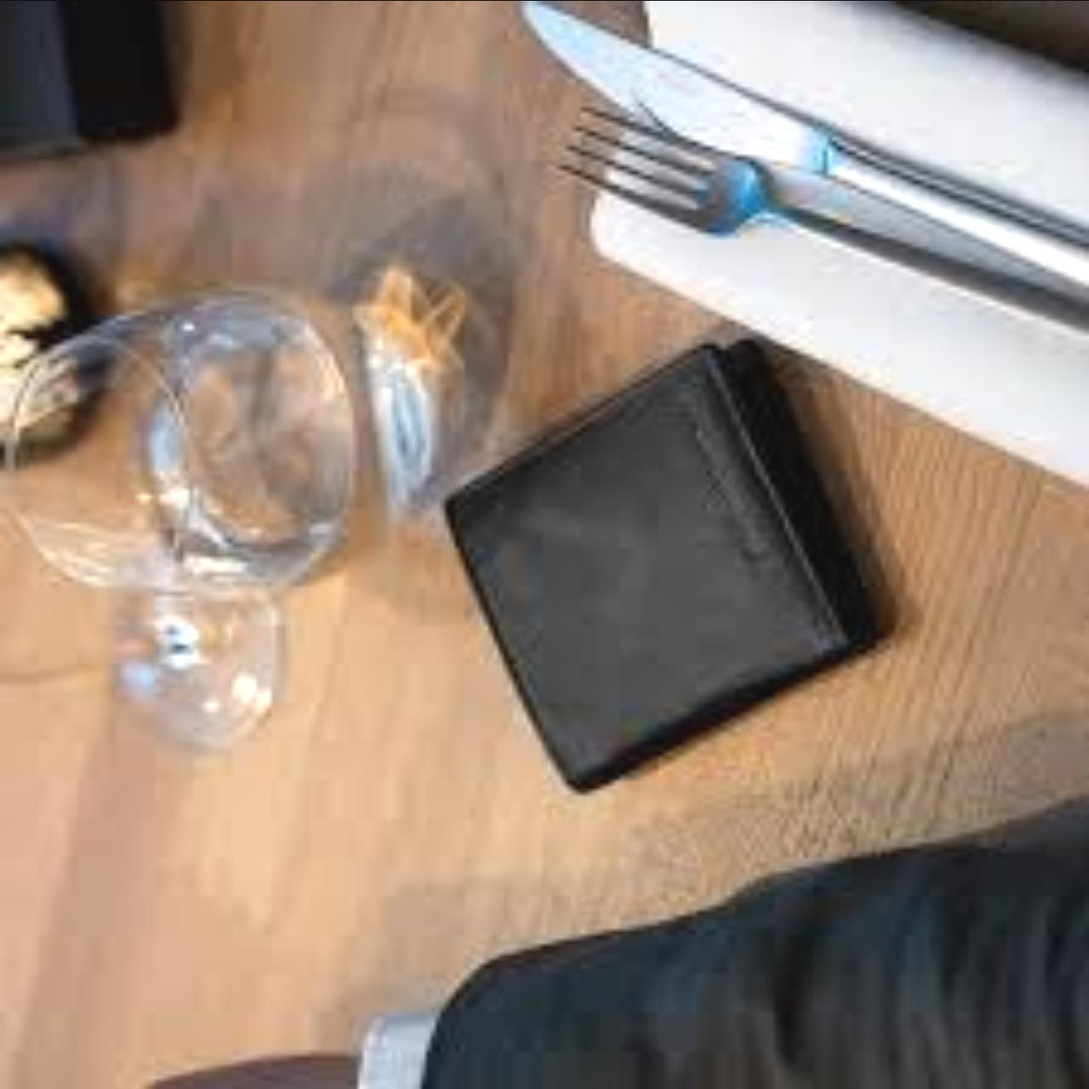wallet: (426, 327, 866, 796)
